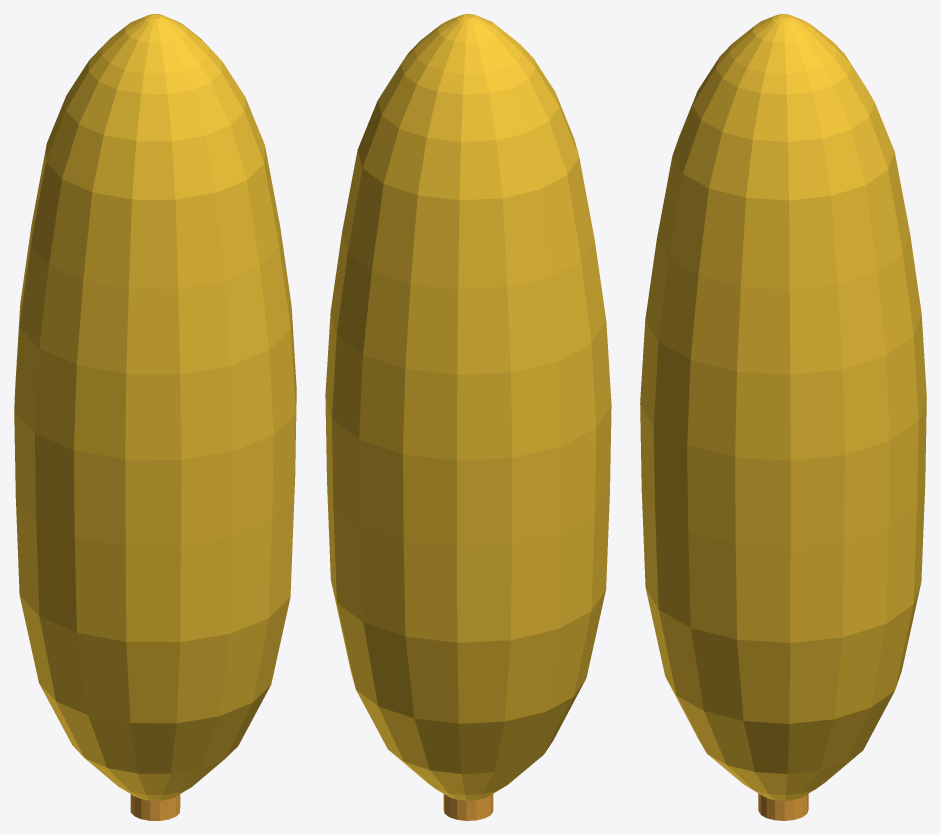
File: korn_single.fbx
3 renders of one model, left to right at view 1: azimuth 30°, elevation 25°; view 2: azimuth 150°, elevation 25°; view 3: azimuth 270°, elevation 25°, orthographic.
Visible parts, largest first — view 1: korn_single; view 2: korn_single; view 3: korn_single.
Boxes of the visible parts, x1,y1,x2,y2 form: korn_single: (14,14,296,820); korn_single: (325,14,611,820); korn_single: (640,14,926,820).
Size of the model in its own units: 82.41 by 252 by 82.41.
